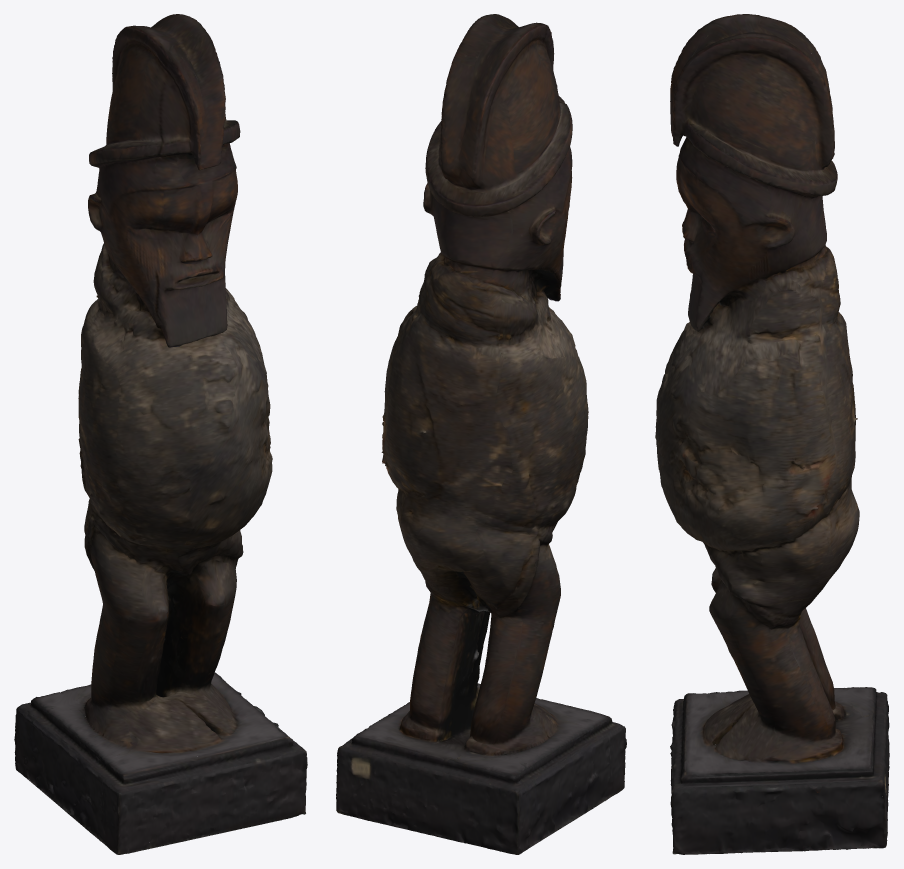
Rendered from preview.glb.
3 renders of one model, left to right at view 1: azimuth 30°, elevation 25°; view 2: azimuth 150°, elevation 25°; view 3: azimuth 270°, elevation 25°, orthographic.
Parts seen in each view (by area): view 1: ADVIMG_2019_477_3_RC_2_Model_4_n3d; view 2: ADVIMG_2019_477_3_RC_2_Model_4_n3d; view 3: ADVIMG_2019_477_3_RC_2_Model_4_n3d.
Boxes of the visible parts, x1,y1,x2,y2 form: ADVIMG_2019_477_3_RC_2_Model_4_n3d: (14,14,307,854); ADVIMG_2019_477_3_RC_2_Model_4_n3d: (336,14,626,854); ADVIMG_2019_477_3_RC_2_Model_4_n3d: (655,14,889,854).
Bounding box in the file's own units: 0.1398 × 0.5443 × 0.1476.
1 material, 1 textured.
